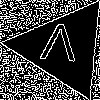V: (38, 22, 79, 71)
